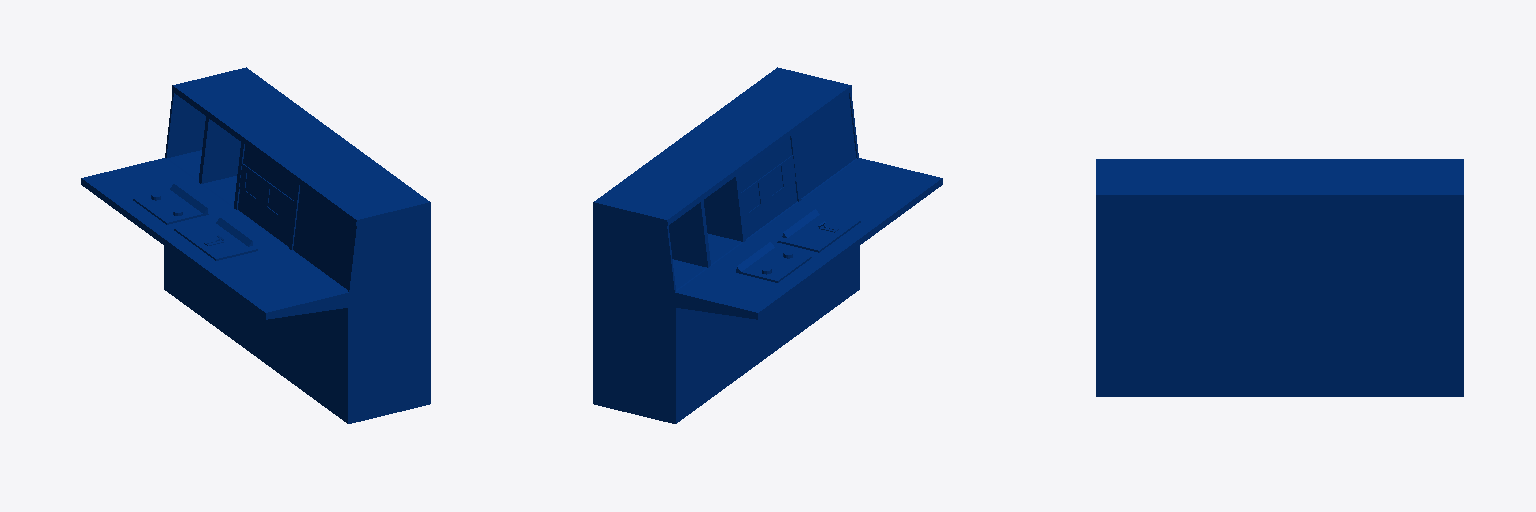
The model's file is studio_controldesk.obj.
3 views of the same model, side by side, from view 1: azimuth 30°, elevation 25°; view 2: azimuth 150°, elevation 25°; view 3: azimuth 270°, elevation 25° (orthographic).
Visible parts, largest first — view 1: Box005; view 2: Box005; view 3: Box005.
Boxes of the visible parts, <box> form: Box005: <box>81,67,430,423</box>; Box005: <box>593,67,942,423</box>; Box005: <box>1096,159,1463,396</box>.
Size of the model in its own units: 1.16 by 1.36 by 2.24.